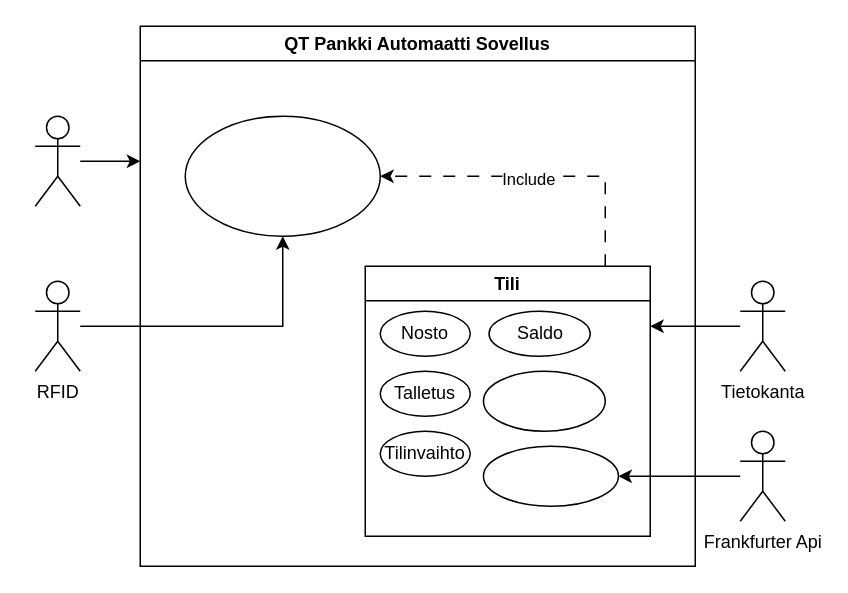
Image size: 848x593. Some labels were removed from this diagram. The shapes that lost their labels are listed below. From the top down, each one's box as (x1, y1, x2, y2) in pixels, then its label:
(34, 115, 80, 206): Käyttäjä
(184, 115, 380, 236): Kirjautuminen RFID-kortin ja pin koodin avulla
(482, 370, 605, 431): Näytä Tilitapahtumat
(482, 445, 618, 506): Valuuttakurssit
